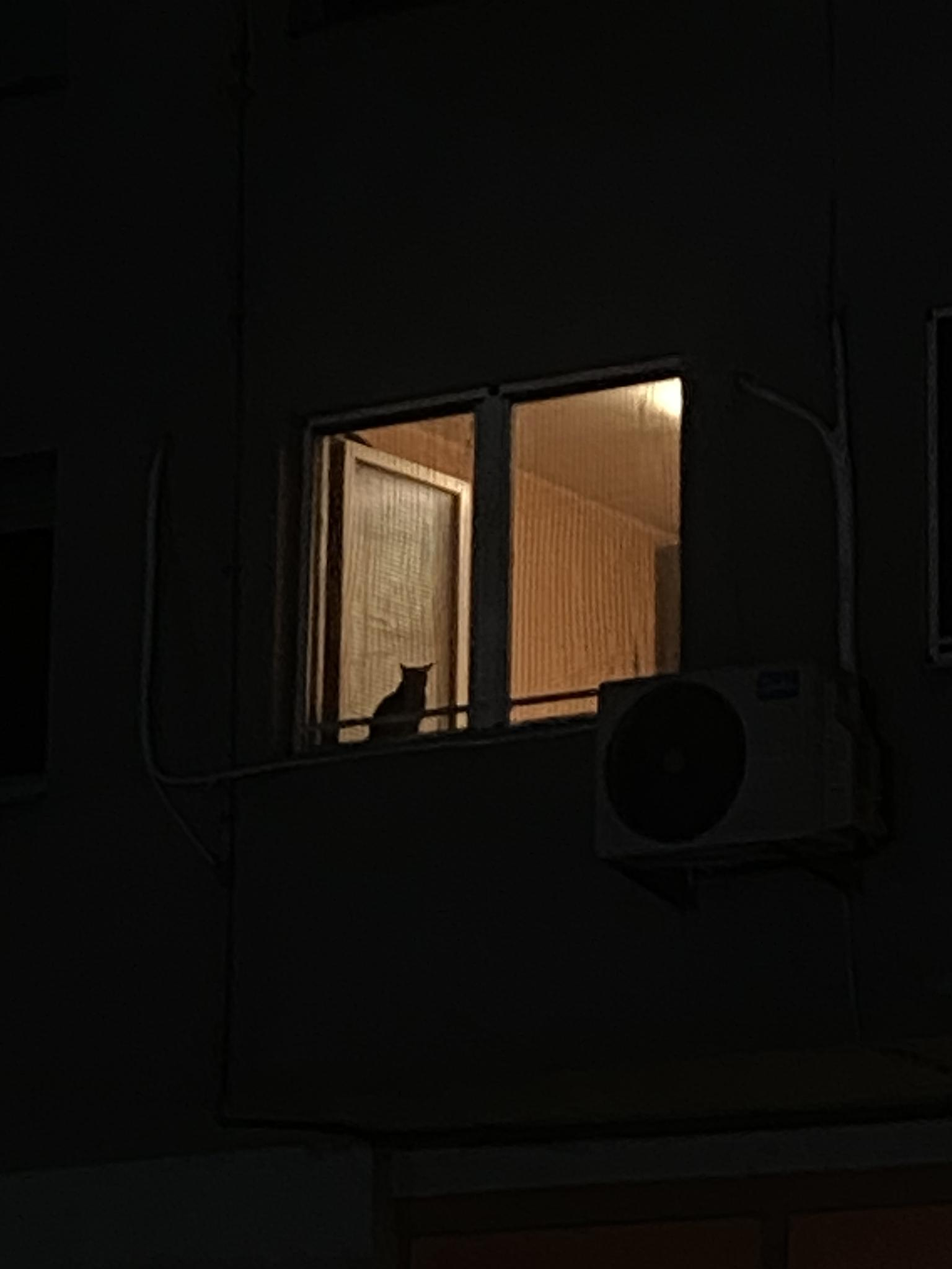macka: (369, 662, 436, 739)
